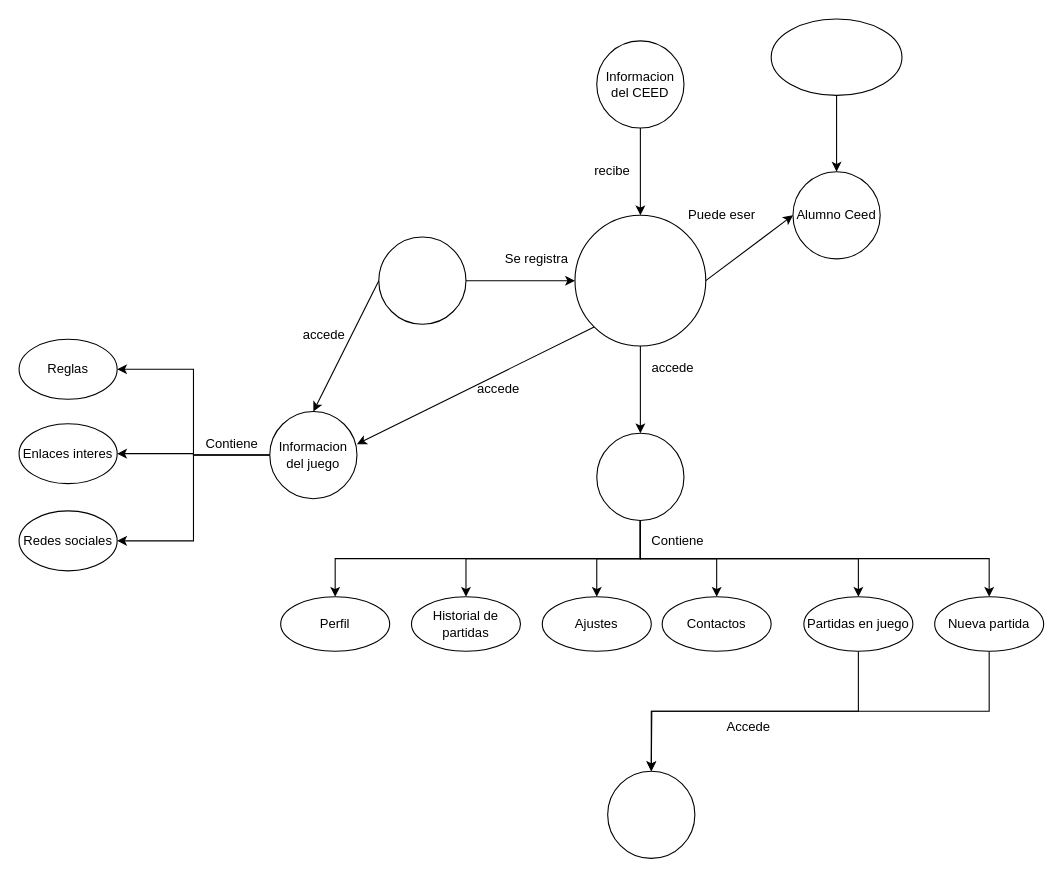
The diagram is 1063 pixels wide and 877 high, and some of its shapes have lost their labels. Each missing label, with the centre of its shape:
"Dashboard" belongs at pixel 640 476.
"Horariosy avisos del CEED" belongs at pixel 836 56.
"Tablero" belongs at pixel 651 814.
"Usuario no registrado" belongs at pixel 422 280.
"Usuario registrado" belongs at pixel 640 280.
